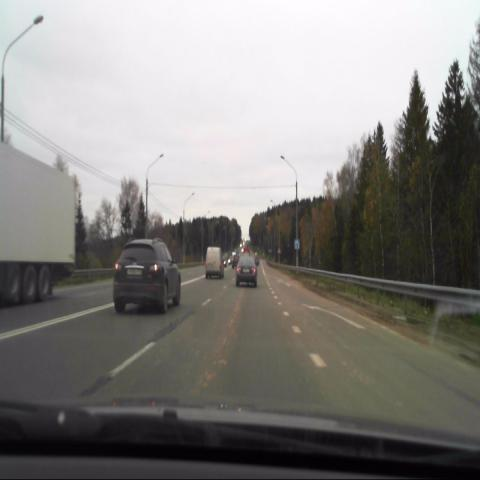5_15_5: (294, 238, 300, 249)
